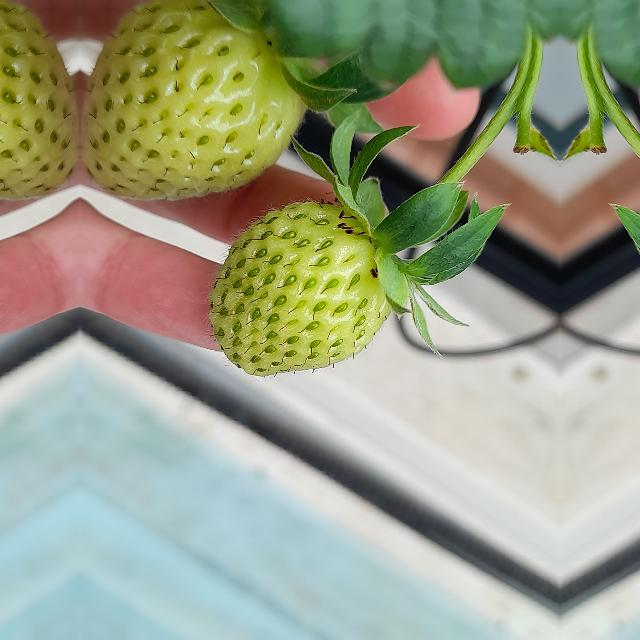Health_25: (83, 2, 311, 198), (208, 202, 392, 376), (0, 1, 77, 198)
